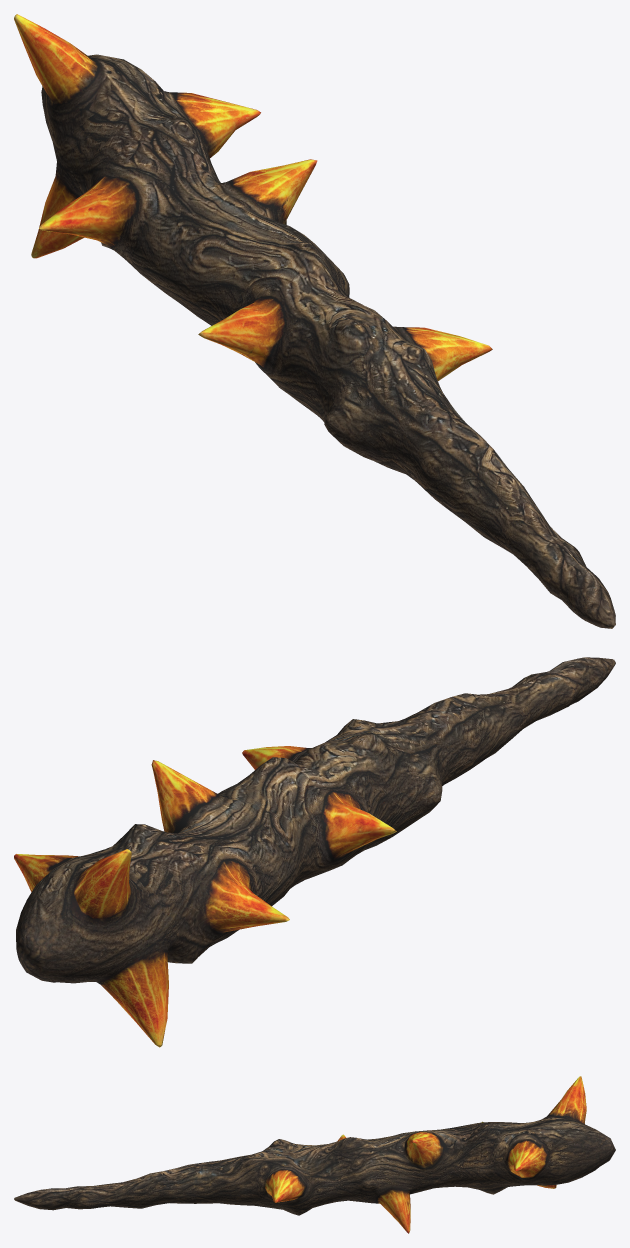
The model's file is item_club2.glb.
3 views of the same model, one above another, from view 1: azimuth 30°, elevation 25°; view 2: azimuth 150°, elevation 25°; view 3: azimuth 270°, elevation 25° (orthographic). The views are drawn at different scales.
Parts seen in each view (by area): view 1: Mesh_0; view 2: Mesh_0; view 3: Mesh_0.
Part boxes in pixels (<box>): Mesh_0: <box>14,14,615,628</box>; Mesh_0: <box>14,657,615,1047</box>; Mesh_0: <box>14,1076,615,1233</box>.
Bounding box in the file's own units: 0.2512 × 0.2229 × 1.
1 material, 1 textured.
